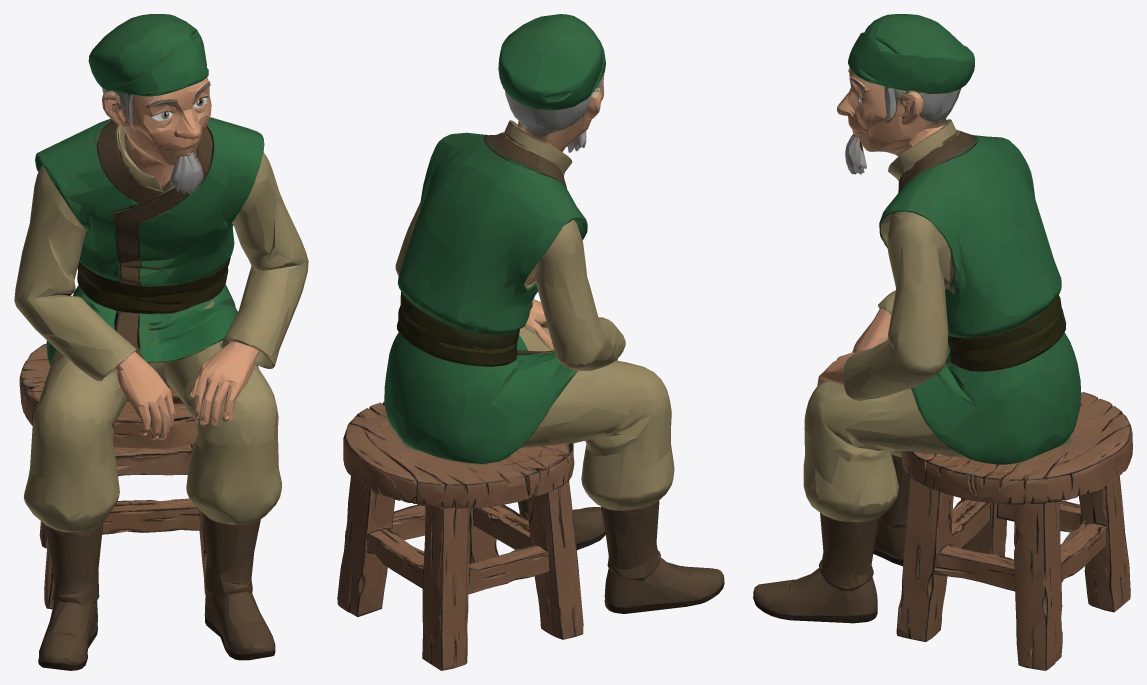
The model's file is chou2.glb.
3 views of the same model, side by side, from view 1: azimuth 30°, elevation 25°; view 2: azimuth 150°, elevation 25°; view 3: azimuth 270°, elevation 25° (orthographic). The views are drawn at different scales.
Parts seen in each view (by area): view 1: Mesh_0; view 2: Mesh_0; view 3: Mesh_0.
Boxes of the visible parts, left/top/right/bottom form: Mesh_0: left=14, top=14, right=308, bottom=670; Mesh_0: left=337, top=14, right=724, bottom=670; Mesh_0: left=753, top=14, right=1132, bottom=670.
Bounding box in the file's own units: 0.9967 × 1.9 × 1.13.
Materials: 1 (1 with a texture image).
